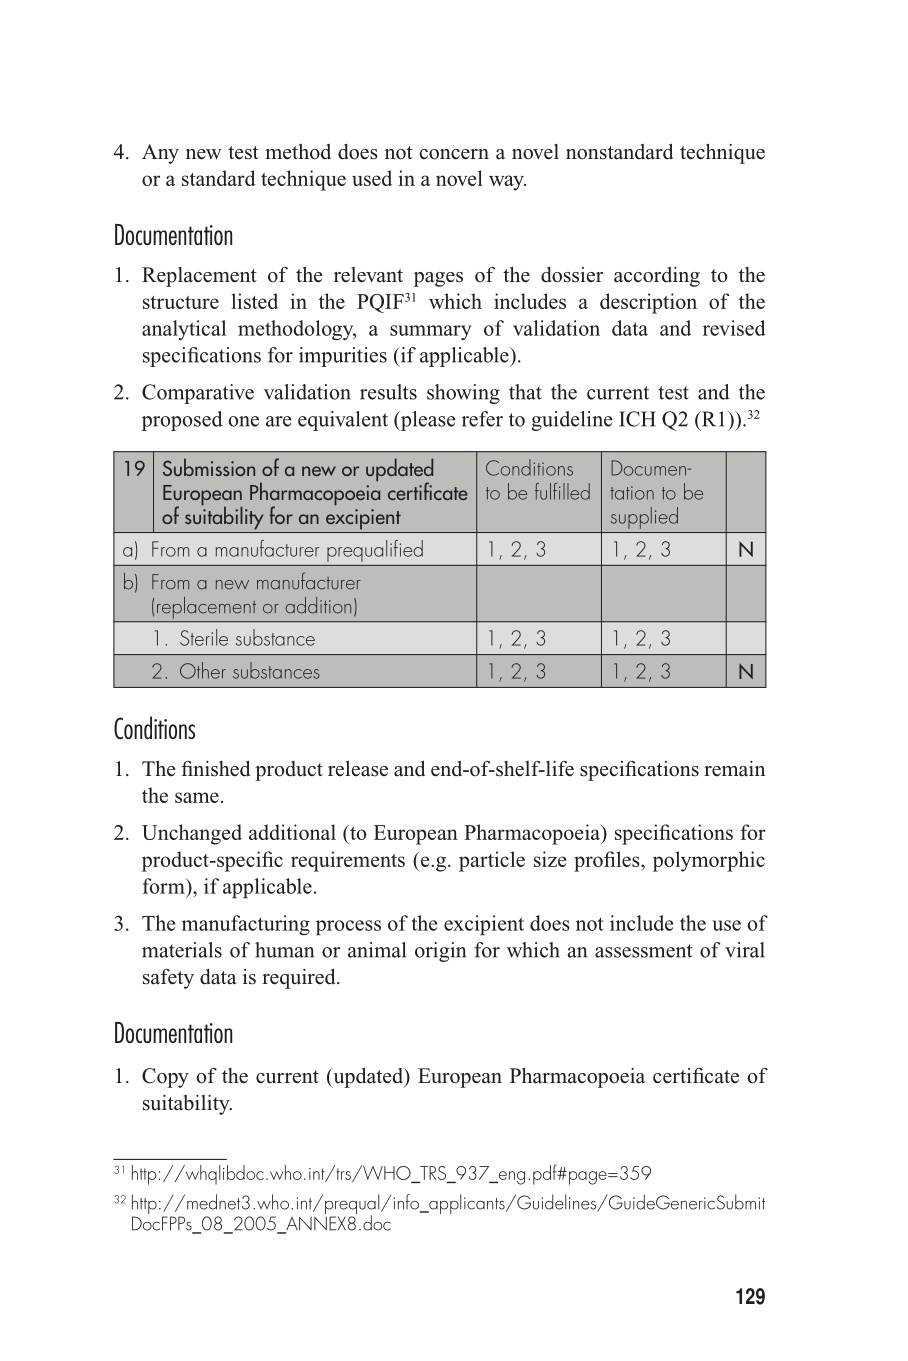merged_cells: (112, 449, 767, 689)
